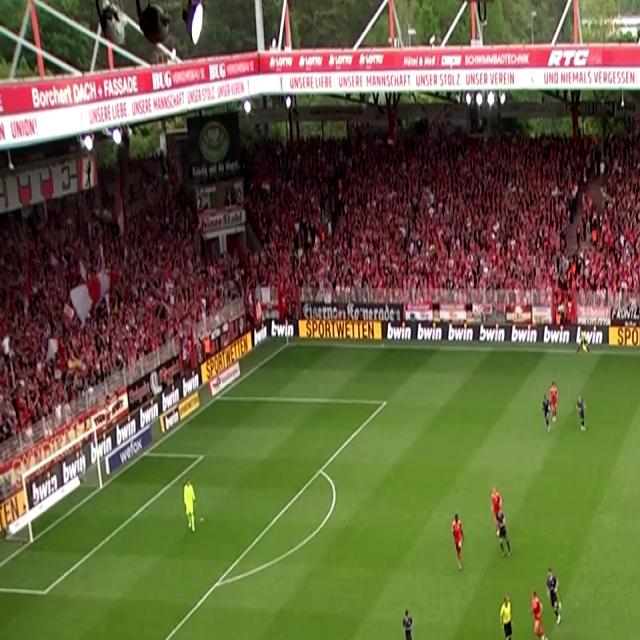goalkeeper: (180, 477, 205, 538)
referee: (496, 590, 518, 640)
soccer-player: (445, 510, 470, 576), (494, 503, 516, 564), (528, 590, 552, 640), (546, 564, 563, 624), (398, 604, 426, 640), (571, 394, 591, 439), (540, 390, 552, 436), (638, 455, 640, 511)
